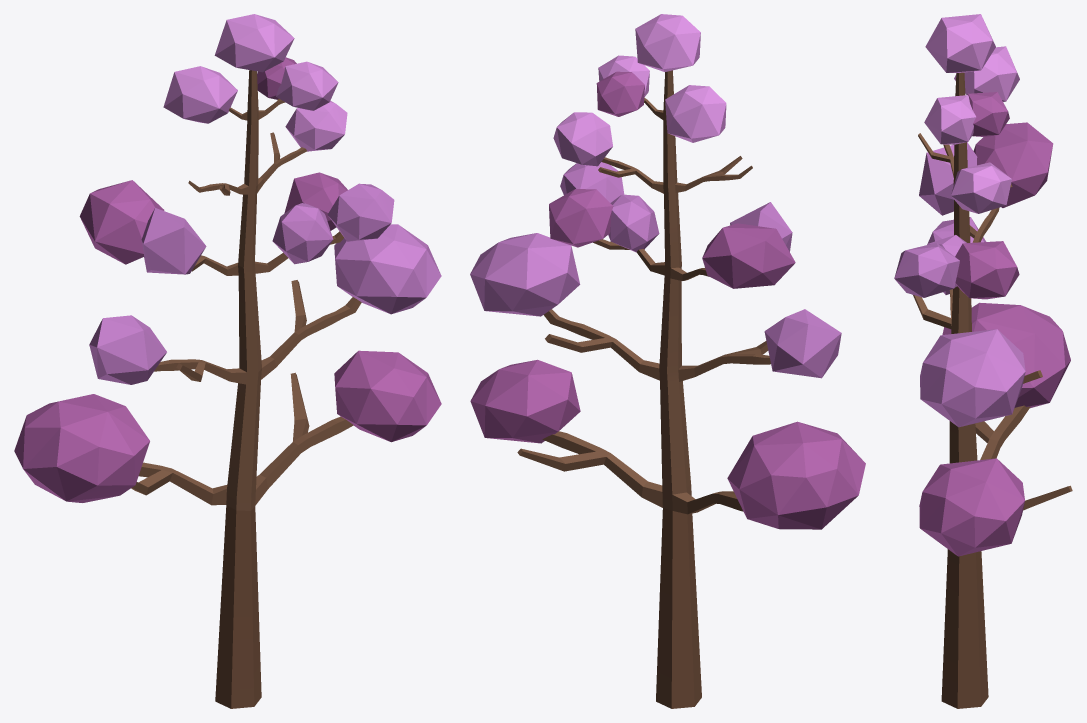
File: japan_tree_7.fbx
3 renders of one model, left to right at view 1: azimuth 30°, elevation 25°; view 2: azimuth 150°, elevation 25°; view 3: azimuth 270°, elevation 25°, orthographic.
Parts seen in each view (by area): view 1: japan_tree_7; view 2: japan_tree_7; view 3: japan_tree_7.
Boxes of the visible parts, <box> form: japan_tree_7: <box>14,14,441,708</box>; japan_tree_7: <box>470,14,865,708</box>; japan_tree_7: <box>894,14,1072,708</box>.
Size of the model in its own units: 495 by 815 by 192.
